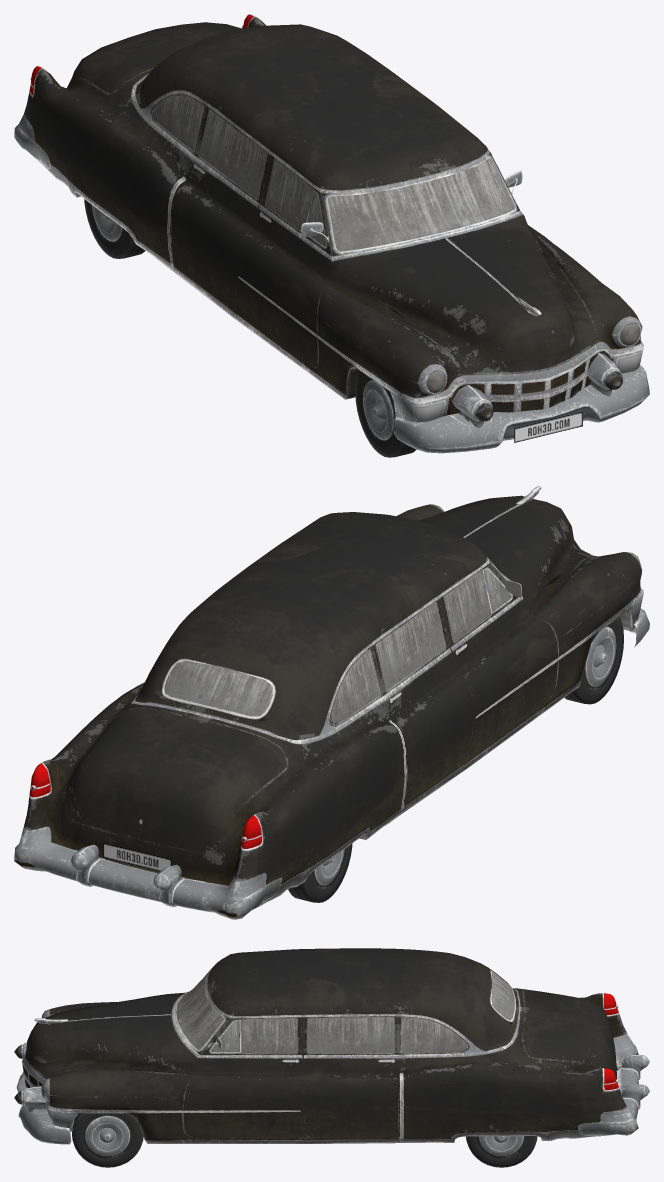
File: p_sedan_cadillac_dirty.glb
3 renders of one model, top to bottom at view 1: azimuth 30°, elevation 25°; view 2: azimuth 150°, elevation 25°; view 3: azimuth 270°, elevation 25°, orthographic. The views are drawn at different scales.
Parts seen in each view (by area): view 1: Object_3, Object_2; view 2: Object_3, Object_2; view 3: Object_3, Object_2.
Part boxes in pixels (box(x1,y1,x2,y2)): Object_3: box(14, 16, 649, 457); Object_2: box(17, 14, 641, 457); Object_3: box(14, 487, 649, 915); Object_2: box(15, 486, 636, 919); Object_3: box(16, 948, 649, 1156); Object_2: box(14, 968, 649, 1167).
Size of the model in its own units: 1.85 by 1.6 by 5.67.
Materials: 1 (1 with a texture image).
